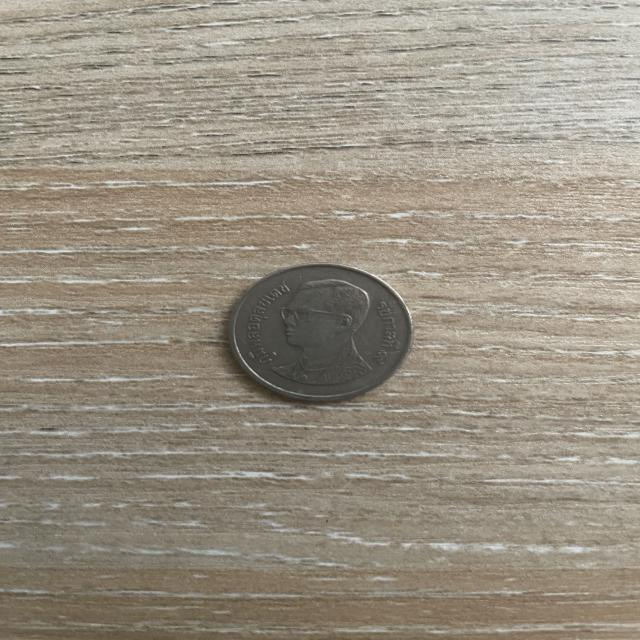1 Bath: (218, 257, 426, 411)
